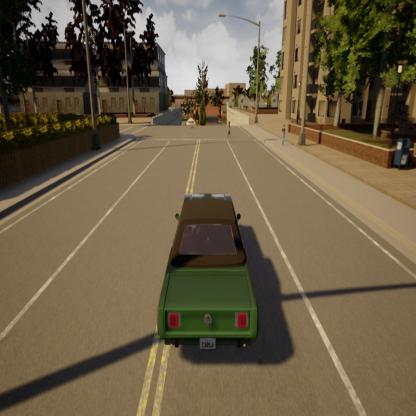Cars: (153, 180, 266, 385)
Pedestrian: (221, 109, 235, 154), (278, 115, 290, 149)
